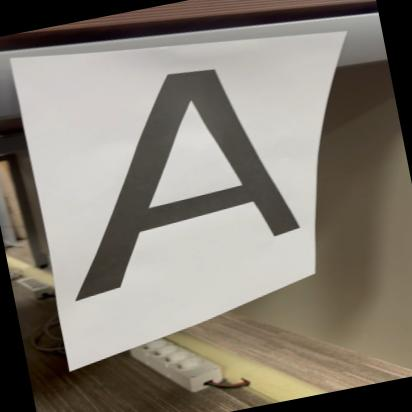seat: (28, 38, 321, 306)
